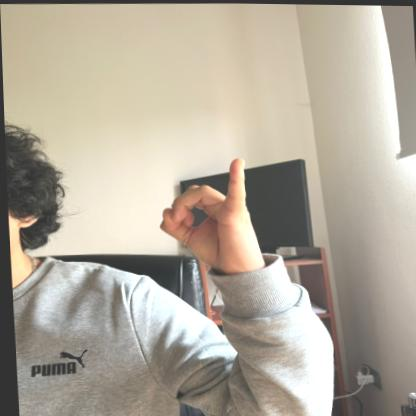D: (146, 152, 266, 268)
